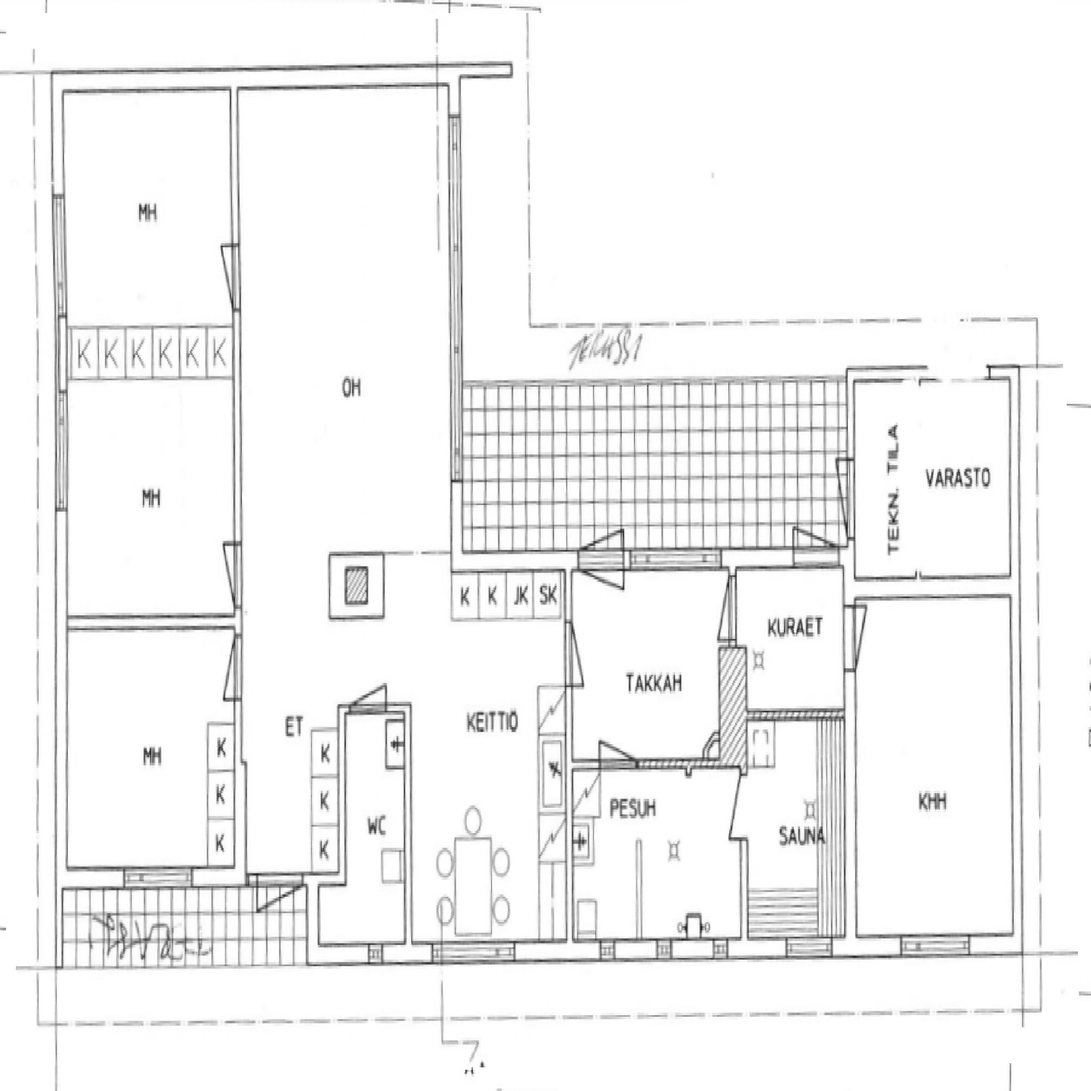wall: (306, 936, 1020, 958), (56, 72, 66, 886), (55, 72, 461, 92), (449, 554, 856, 573), (230, 72, 239, 784), (449, 72, 460, 573), (1011, 369, 1020, 957), (845, 573, 856, 957), (844, 579, 1010, 600), (720, 648, 748, 767), (55, 867, 229, 886), (565, 554, 573, 957), (847, 369, 1020, 384), (565, 756, 748, 768), (404, 706, 412, 957), (55, 617, 238, 627), (720, 708, 856, 721), (848, 369, 856, 573), (229, 762, 242, 886), (339, 706, 346, 885), (740, 767, 747, 936), (229, 873, 317, 886), (307, 873, 317, 958), (728, 554, 736, 648), (636, 839, 642, 958), (449, 72, 512, 82), (338, 706, 412, 714), (55, 886, 61, 959), (317, 873, 345, 885), (229, 762, 242, 784), (687, 756, 693, 780)
